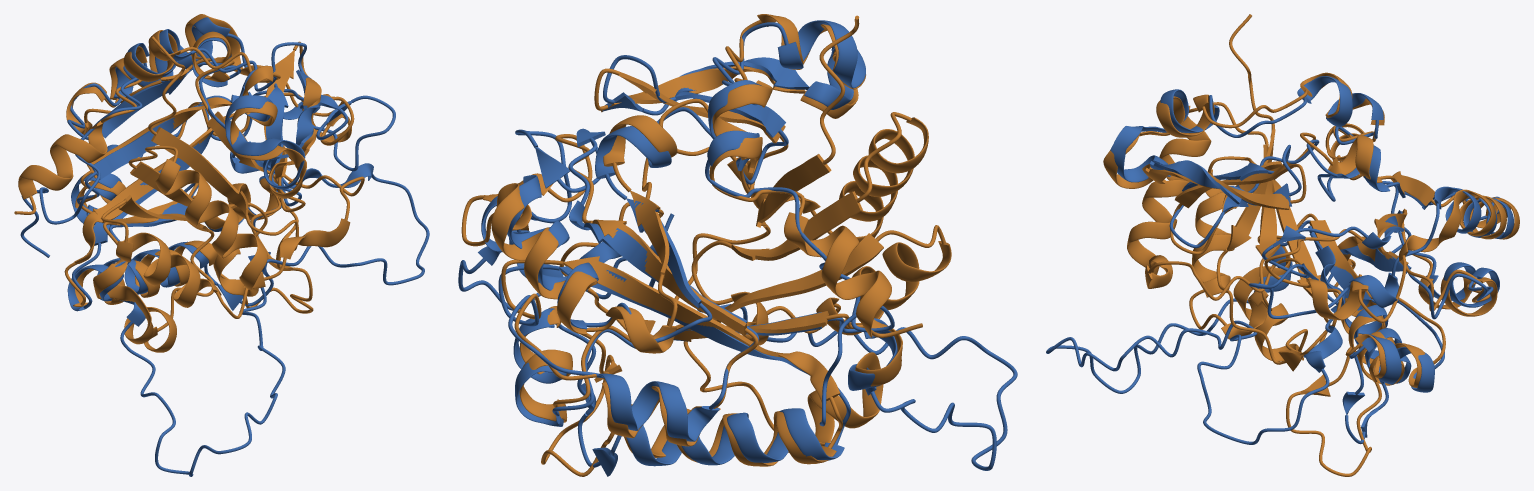
3 renders of one model, left to right at view 1: azimuth 30°, elevation 25°; view 2: azimuth 150°, elevation 25°; view 3: azimuth 270°, elevation 25°, orthographic. The views are drawn at different scales.
Bounding box in the file's own units: 54.15 × 52.39 × 57.18.
